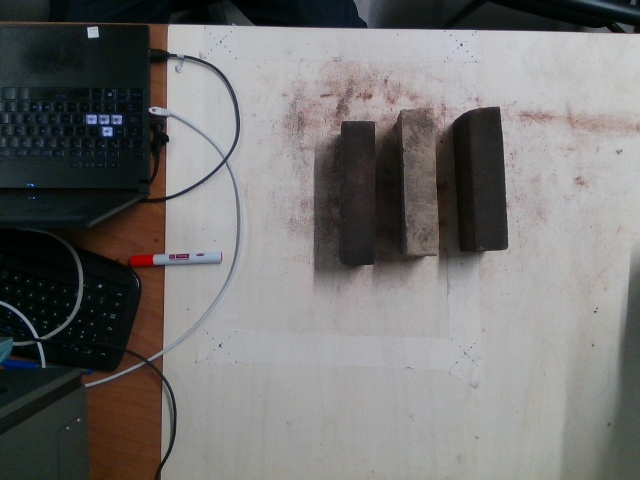brick-side: (400, 111, 439, 254), (472, 109, 511, 252), (343, 119, 376, 260)
